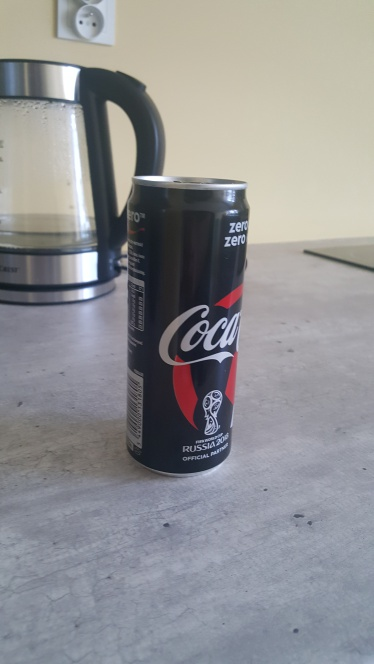colazero: (116, 172, 250, 477)
